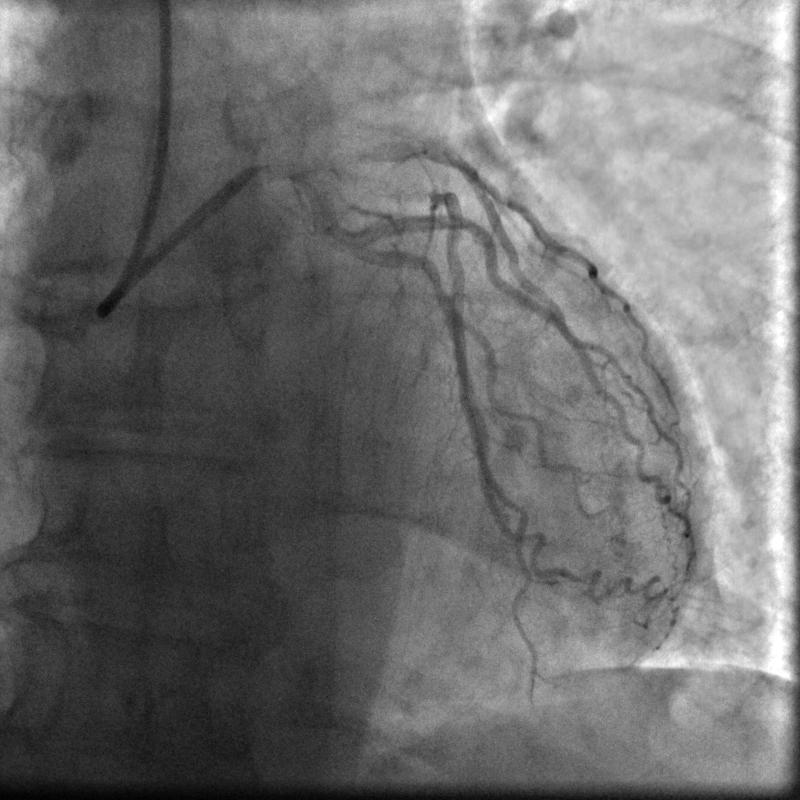Stenosis: (360, 171, 441, 210)
